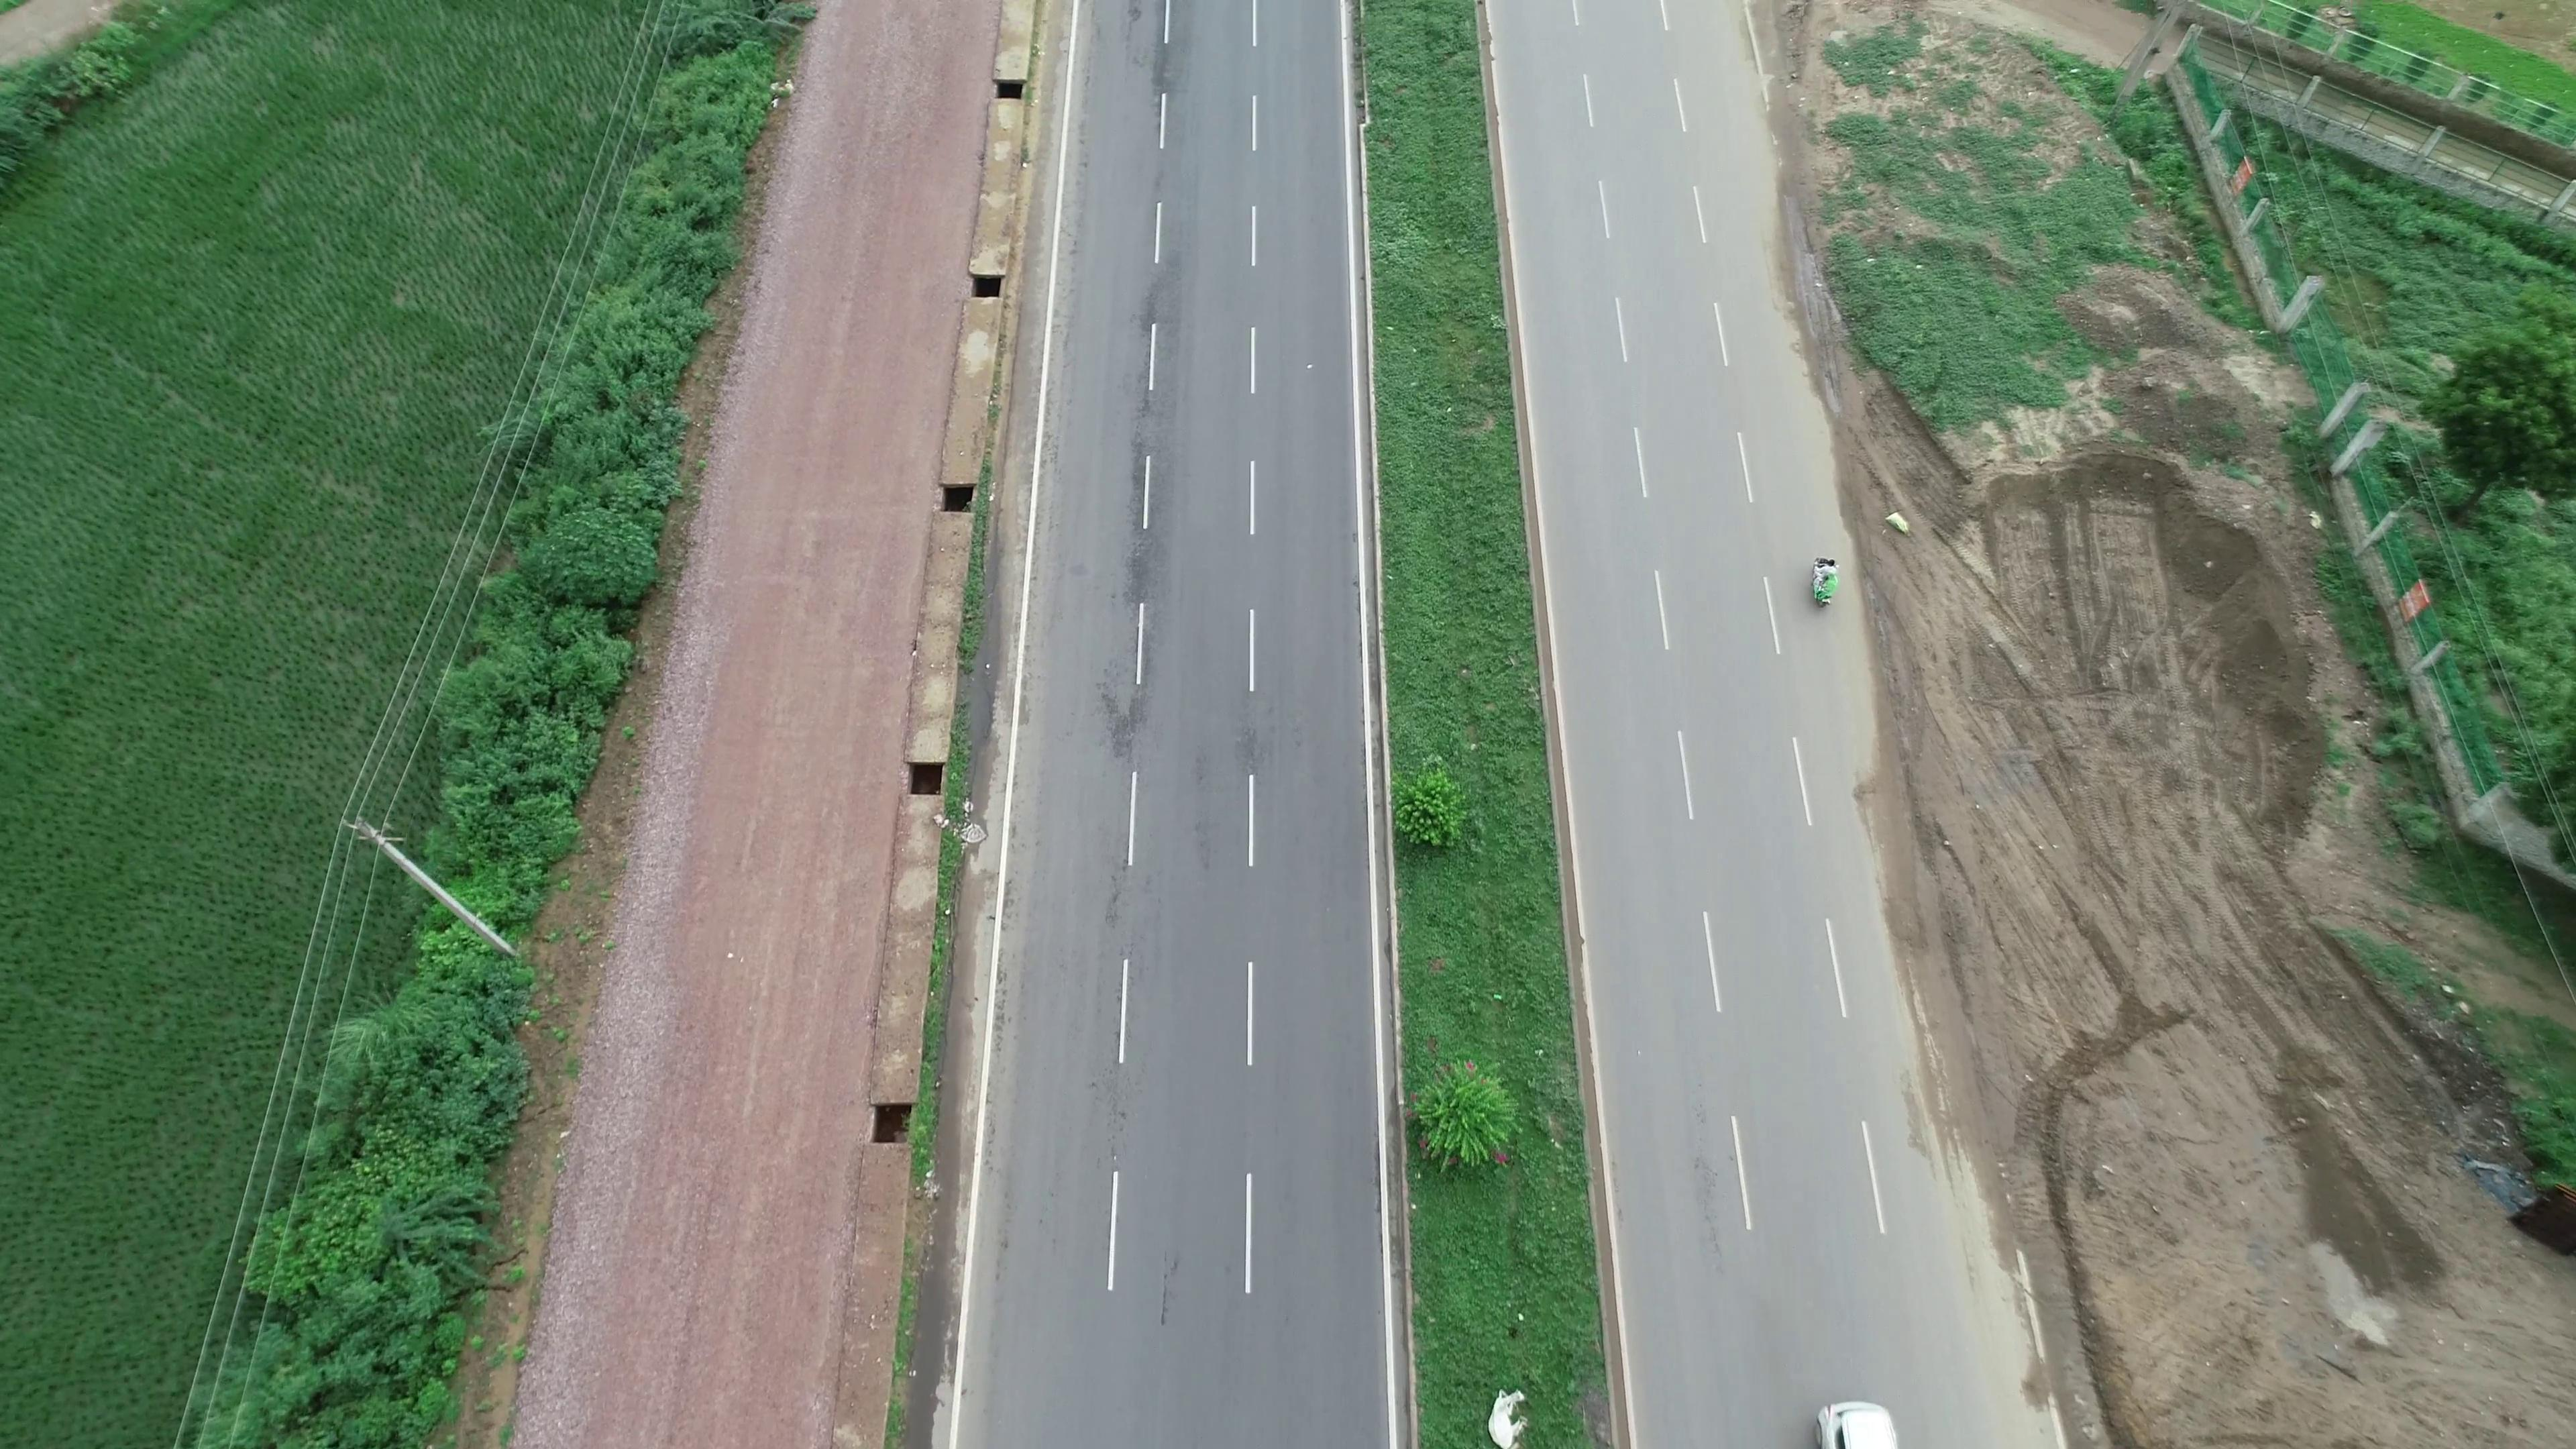Ravelling: (1108, 257, 1194, 625)
